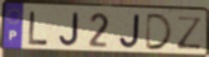2: (87, 12, 111, 49)
D: (144, 13, 175, 52)
J: (118, 13, 141, 50), (58, 12, 80, 48)
L: (27, 10, 51, 47)
Z: (176, 16, 205, 51)
